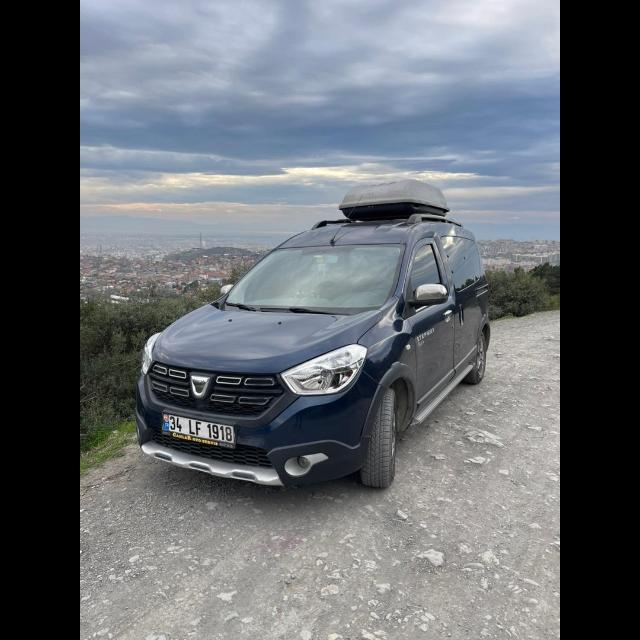Plaka: (162, 415, 234, 445)
